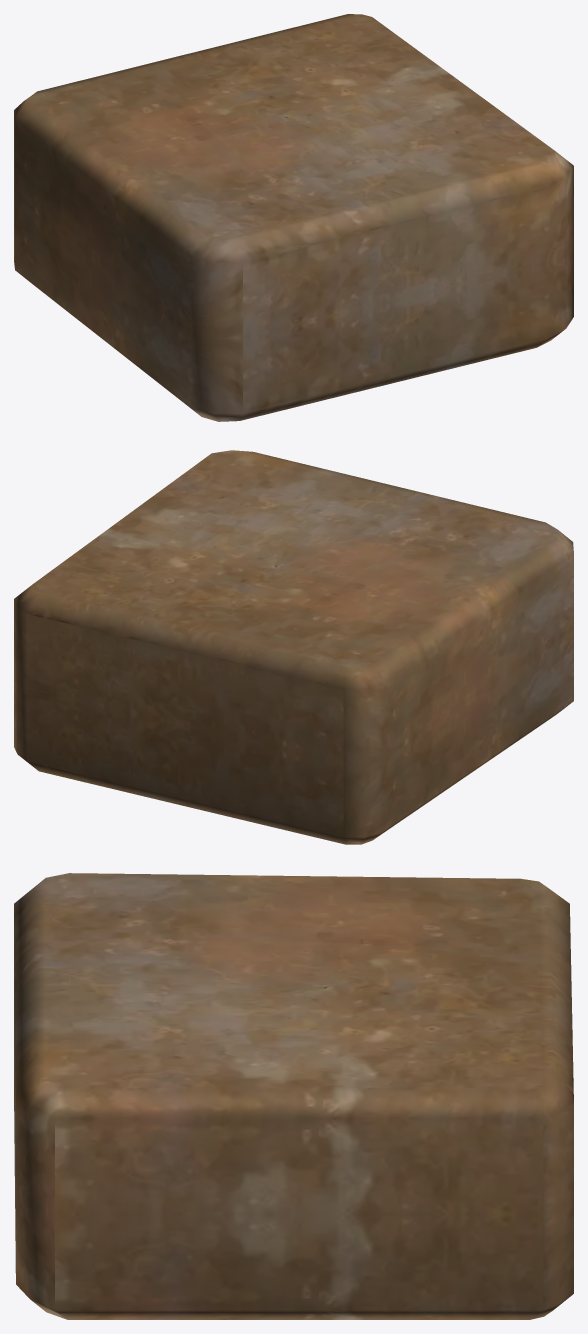
3 renders of one model, top to bottom at view 1: azimuth 30°, elevation 25°; view 2: azimuth 150°, elevation 25°; view 3: azimuth 270°, elevation 25°, orthographic. The views are drawn at different scales.
Visible parts, largest first — view 1: SM_DK_Path_Brick_01_V2_LOD0; view 2: SM_DK_Path_Brick_01_V2_LOD0; view 3: SM_DK_Path_Brick_01_V2_LOD0.
Boxes of the visible parts, <box> form: SM_DK_Path_Brick_01_V2_LOD0: <box>14,14,573,421</box>; SM_DK_Path_Brick_01_V2_LOD0: <box>14,450,573,844</box>; SM_DK_Path_Brick_01_V2_LOD0: <box>14,873,573,1319</box>.
Bounding box in the file's own units: 1.29 × 0.586 × 1.3.
1 material, 1 textured.
